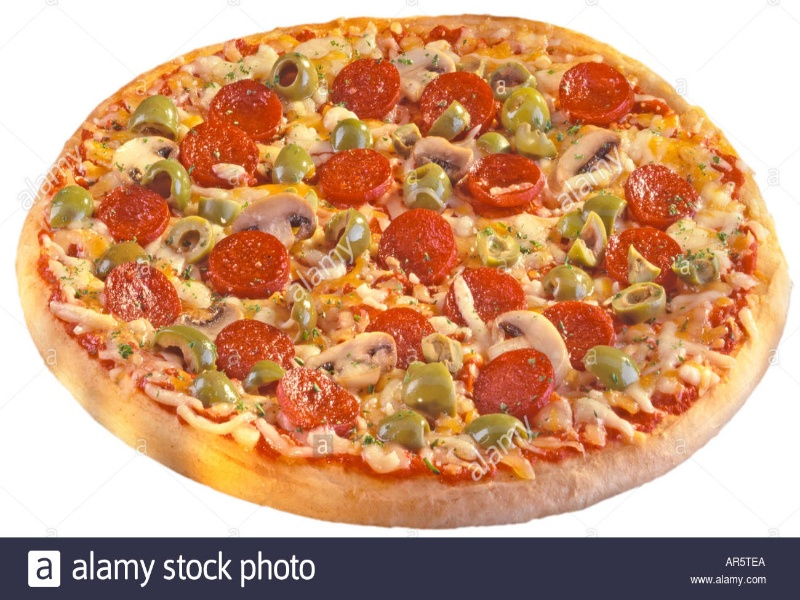olive verte: (393, 360, 464, 414), (495, 77, 554, 134), (578, 344, 644, 391), (180, 362, 242, 412), (49, 178, 99, 234), (456, 411, 531, 448), (610, 279, 666, 325), (261, 53, 319, 95), (538, 259, 595, 301), (163, 214, 214, 260), (131, 94, 181, 134), (268, 142, 312, 187), (428, 101, 469, 141)
pepperonis: (262, 360, 369, 446), (545, 51, 637, 128), (202, 224, 296, 296), (208, 318, 306, 386), (470, 350, 564, 418), (468, 146, 547, 224), (328, 51, 409, 125), (614, 162, 707, 225), (373, 212, 456, 282), (173, 124, 262, 189), (99, 263, 186, 329), (430, 269, 526, 325), (315, 144, 393, 208), (90, 184, 171, 239)
